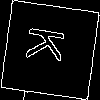K: (25, 24, 75, 65)
